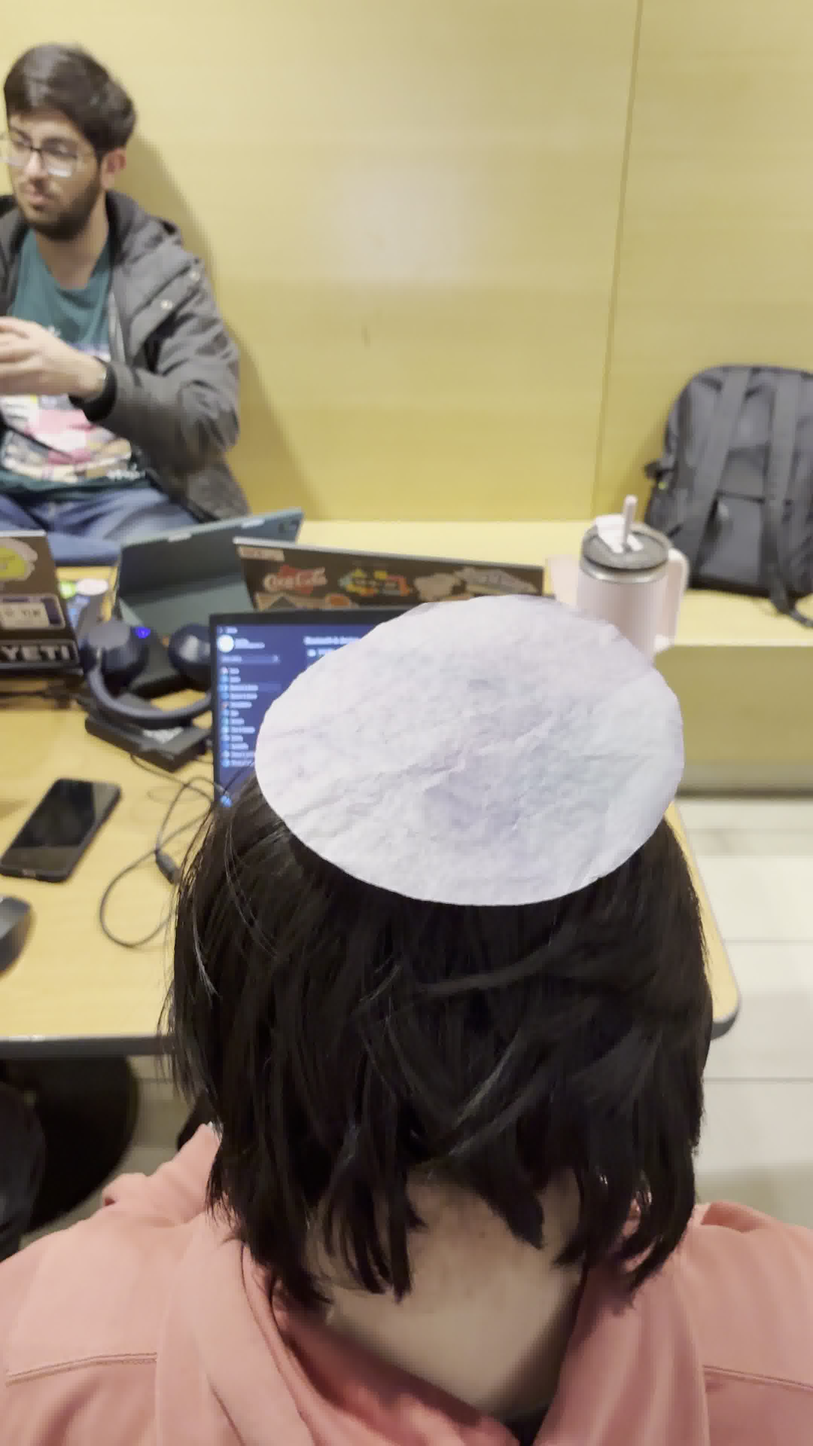Target: (254, 590, 686, 903)
